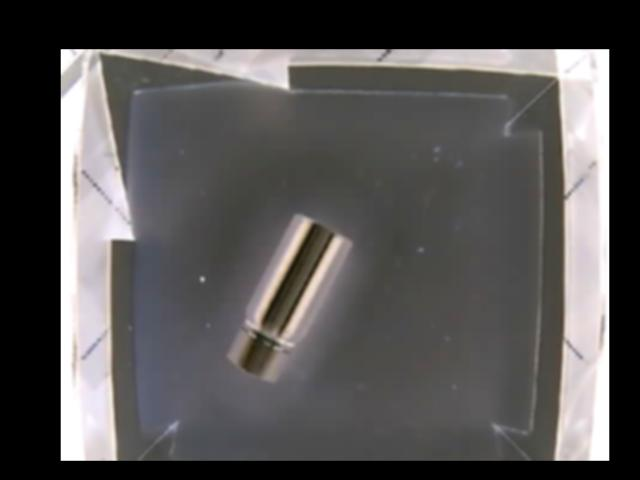Bottle: (224, 212, 352, 379)
